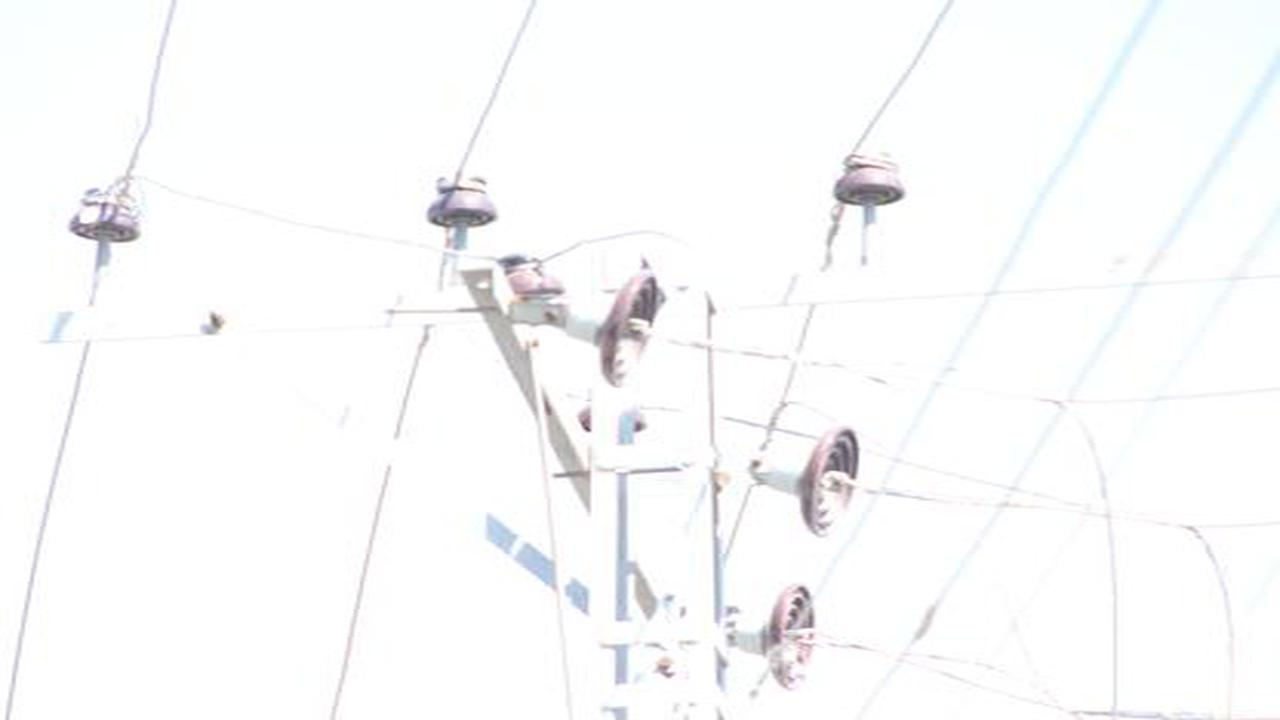insulator_disc: (774, 427, 866, 535), (589, 269, 661, 383), (751, 587, 820, 688)
insulator_pin: (420, 167, 503, 233), (69, 180, 146, 250), (828, 147, 908, 212), (491, 247, 566, 306)
